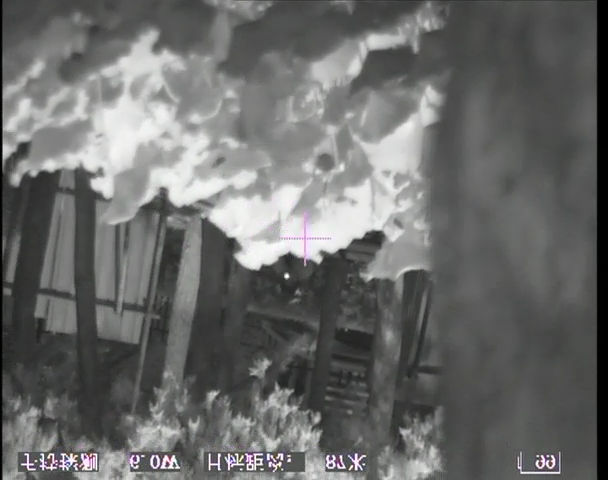my: (283, 272, 291, 282)
